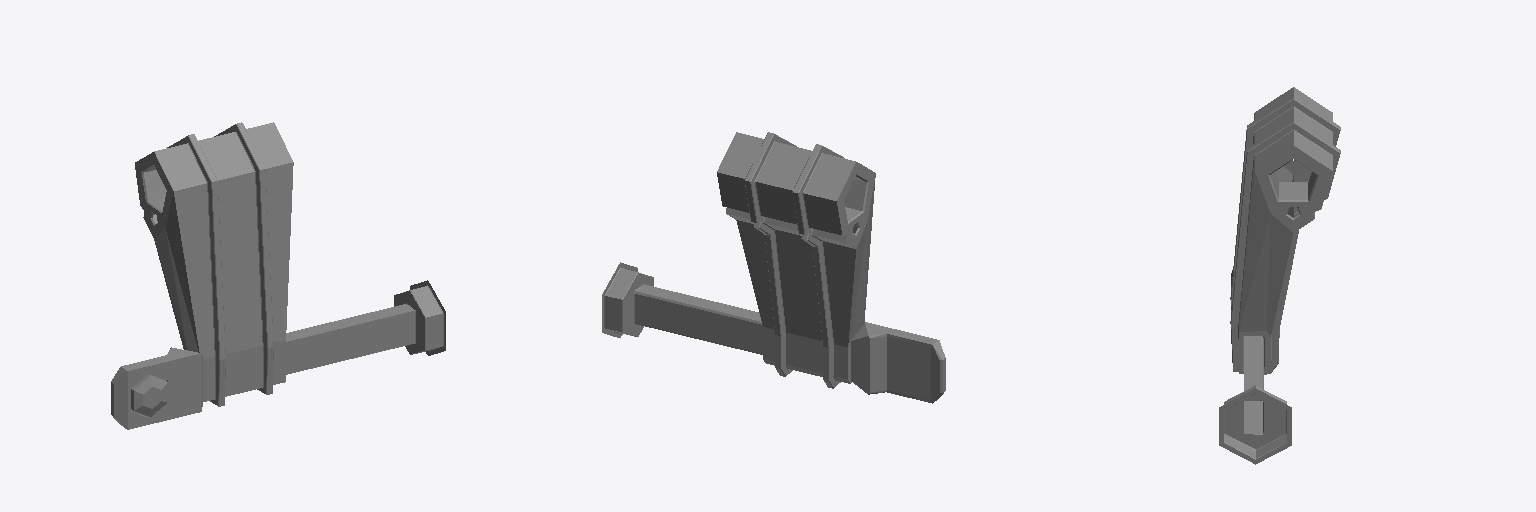
Rendered from barrera_derecha.obj.
The picture shows the model from 3 angles: view 1: azimuth 30°, elevation 25°; view 2: azimuth 150°, elevation 25°; view 3: azimuth 270°, elevation 25°; orthographic projection.
Visible parts, largest first — view 1: barrera_derecha; view 2: barrera_derecha; view 3: barrera_derecha.
Boxes of the visible parts, x1,y1,x2,y2 form: barrera_derecha: [111, 122, 445, 429]; barrera_derecha: [602, 132, 945, 403]; barrera_derecha: [1219, 87, 1340, 464].
Size of the model in its own units: 8.76 by 6.84 by 2.89.